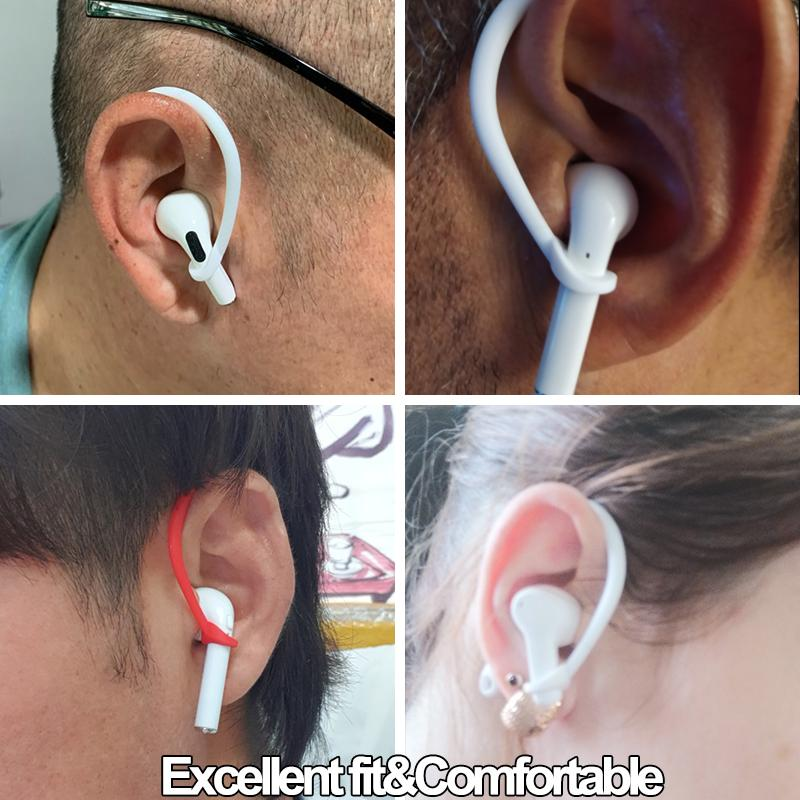earphone: (528, 139, 644, 310), (142, 183, 247, 319), (497, 566, 592, 670), (166, 572, 257, 662)
